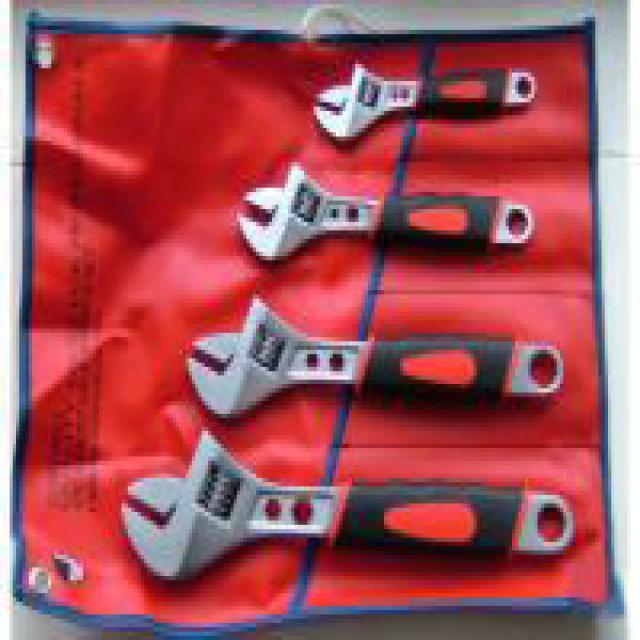wrench: (114, 424, 581, 594), (180, 288, 569, 432), (233, 157, 542, 272), (308, 54, 542, 151)
